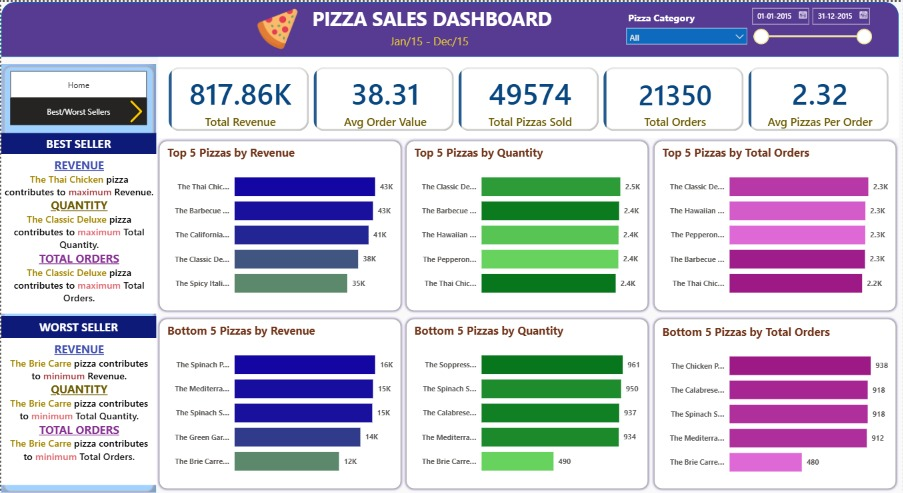

The dashboard page shown, as its layout file describes it:
{"tool":"powerbi","page":{"name":"Best/Worst Sellers","canvas":[1503,826],"ordinal":1},"visuals":[{"type":"shape","box":[0,103.3,258.3,718.3],"z":0},{"type":"shape","box":[0,0,1498.3,91.7],"z":1000},{"type":"cardVisual","fields":{"Data":["pizzadb pizza_sales.Total Revenue","pizzadb pizza_sales.Avg Order Value","pizzadb pizza_sales.Total Pizzas Sold","pizzadb pizza_sales.Total Orders","pizzadb pizza_sales.Avg Pizzas Per Order"]},"box":[261.7,91.7,1236.7,135],"z":2000},{"type":"textbox","box":[485,0,470,56.7],"z":3000},{"type":"textbox","box":[645,46.7,148.3,36.7],"z":4000},{"type":"shape","box":[258.3,226.7,413.3,293.3],"z":5000},{"type":"textbox","box":[0,218.3,258.3,40],"z":15000},{"type":"textbox","box":[0,253.3,260,266.7],"z":16000},{"type":"textbox","box":[0,525,258.3,40],"z":17000},{"type":"textbox","box":[0,561.7,260,245],"z":18000},{"type":"slicer","fields":{"Values":["pizzadb pizza_sales.pizza_category"]},"box":[1033.3,10,221.7,73.3],"z":19000},{"type":"slicer","fields":{"Values":["pizzadb pizza_sales.order_date"]},"box":[1240,0,221.7,73.3],"z":20000},{"type":"shape","box":[671.7,226.7,413.3,293.3],"z":20001},{"type":"shape","box":[1085,226.7,413.3,293.3],"z":20002},{"type":"shape","box":[671.7,525,413.3,293.3],"z":20003},{"type":"shape","box":[1085,525,413.3,293.3],"z":20004},{"type":"shape","box":[258.3,525,413.3,293.3],"z":20005},{"type":"barChart","title":"Top 5 Pizzas by Revenue","fields":{"Category":["pizzadb pizza_sales.pizza_name"],"Y":["pizzadb pizza_sales.Total Revenue"]},"box":[271.7,238.3,386.7,268.3],"z":20006},{"type":"barChart","title":"Bottom 5 Pizzas by Revenue","fields":{"Category":["pizzadb pizza_sales.pizza_name"],"Y":["pizzadb pizza_sales.Total Revenue"]},"box":[271.7,536.7,386.7,268.3],"z":20007},{"type":"barChart","title":"Top 5 Pizzas by Quantity","fields":{"Category":["pizzadb pizza_sales.pizza_name"],"Y":["pizzadb pizza_sales.Total Pizzas Sold"]},"box":[685,238.3,386.7,268.3],"z":20008},{"type":"barChart","title":"Bottom 5 Pizzas by Quantity","fields":{"Category":["pizzadb pizza_sales.pizza_name"],"Y":["pizzadb pizza_sales.Total Pizzas Sold"]},"box":[685,536.7,386.7,268.3],"z":20009},{"type":"barChart","title":"Top 5 Pizzas by Total Orders","fields":{"Category":["pizzadb pizza_sales.pizza_name"],"Y":["pizzadb pizza_sales.Total Orders"]},"box":[1098.3,238.3,386.7,268.3],"z":20010},{"type":"barChart","title":"Bottom 5 Pizzas by Total Orders","fields":{"Category":["pizzadb pizza_sales.pizza_name"],"Y":["pizzadb pizza_sales.Total Orders"]},"box":[1098.3,538.3,386.7,268.3],"z":20011},{"type":"pageNavigator","box":[15,115,228.3,45],"z":20012},{"type":"pageNavigator","box":[15,160,228.3,45],"z":20013},{"type":"image","box":[192.2,163.3,66.7,37.8],"z":20014},{"type":"image","box":[410,10,100,70],"z":20015}]}

Visuals, with their boxes in screenshot pixels (x1, y1, x2, y2), scaled from the page's 1503x826 canvas onto the 903x493 screenshot:
shape: bbox=[0, 62, 155, 490]
shape: bbox=[0, 0, 900, 55]
cardVisual - pizzadb pizza_sales.Total Revenue x pizzadb pizza_sales.Avg Order Value: bbox=[157, 55, 900, 135]
textbox: bbox=[291, 0, 574, 34]
textbox: bbox=[388, 28, 477, 50]
shape: bbox=[155, 135, 403, 310]
textbox: bbox=[0, 130, 155, 154]
textbox: bbox=[0, 151, 156, 310]
textbox: bbox=[0, 313, 155, 337]
textbox: bbox=[0, 335, 156, 481]
slicer - pizzadb pizza_sales.pizza_category: bbox=[621, 6, 754, 50]
slicer - pizzadb pizza_sales.order_date: bbox=[745, 0, 878, 44]
shape: bbox=[404, 135, 652, 310]
shape: bbox=[652, 135, 900, 310]
shape: bbox=[404, 313, 652, 488]
shape: bbox=[652, 313, 900, 488]
shape: bbox=[155, 313, 403, 488]
"Top 5 Pizzas by Revenue" barChart: bbox=[163, 142, 396, 302]
"Bottom 5 Pizzas by Revenue" barChart: bbox=[163, 320, 396, 480]
"Top 5 Pizzas by Quantity" barChart: bbox=[412, 142, 644, 302]
"Bottom 5 Pizzas by Quantity" barChart: bbox=[412, 320, 644, 480]
"Top 5 Pizzas by Total Orders" barChart: bbox=[660, 142, 892, 302]
"Bottom 5 Pizzas by Total Orders" barChart: bbox=[660, 321, 892, 481]
pageNavigator: bbox=[9, 69, 146, 95]
pageNavigator: bbox=[9, 95, 146, 122]
image: bbox=[115, 97, 156, 120]
image: bbox=[246, 6, 306, 48]
